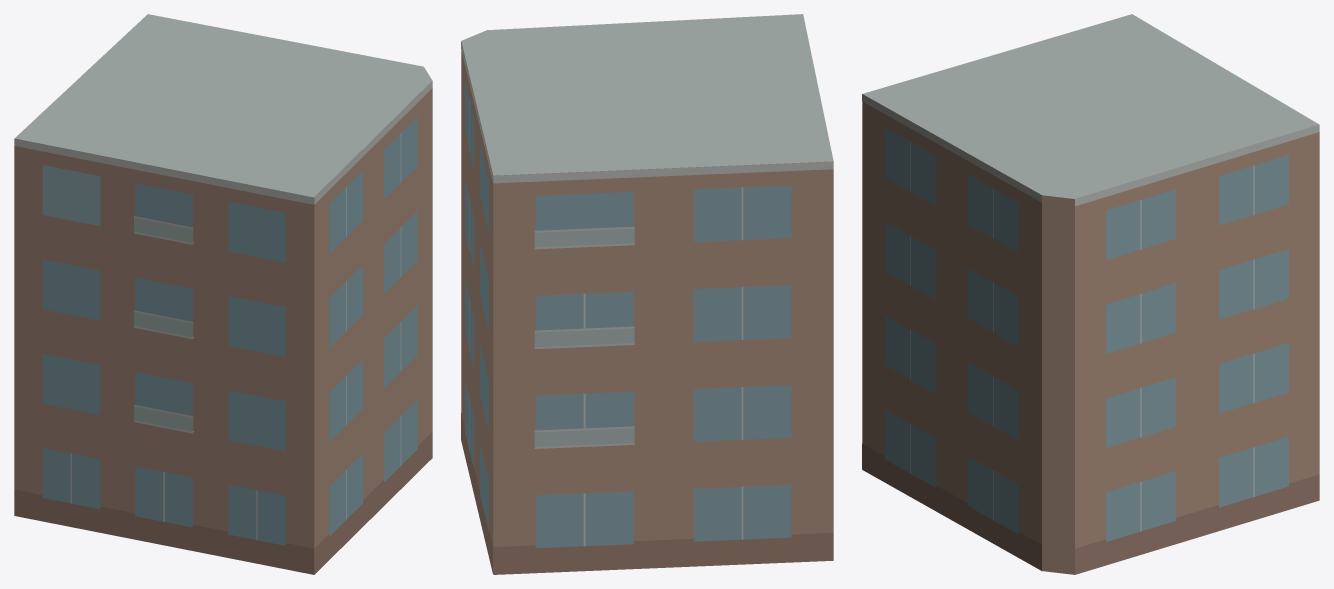
Rendered from survey-upis-32576391.glb.
3 views of the same model, side by side, from view 1: azimuth 30°, elevation 25°; view 2: azimuth 150°, elevation 25°; view 3: azimuth 270°, elevation 25° (orthographic). The views are drawn at different scales.
Parts seen in each view (by area): view 1: survey-upis-32576391.tmp; view 2: survey-upis-32576391.tmp; view 3: survey-upis-32576391.tmp.
Part boxes in pixels (bbox=[...]): survey-upis-32576391.tmp: bbox=[14, 14, 432, 574]; survey-upis-32576391.tmp: bbox=[461, 14, 833, 574]; survey-upis-32576391.tmp: bbox=[862, 14, 1319, 574].
Bounding box in the file's own units: 13.1 × 12.4 × 13.69.
